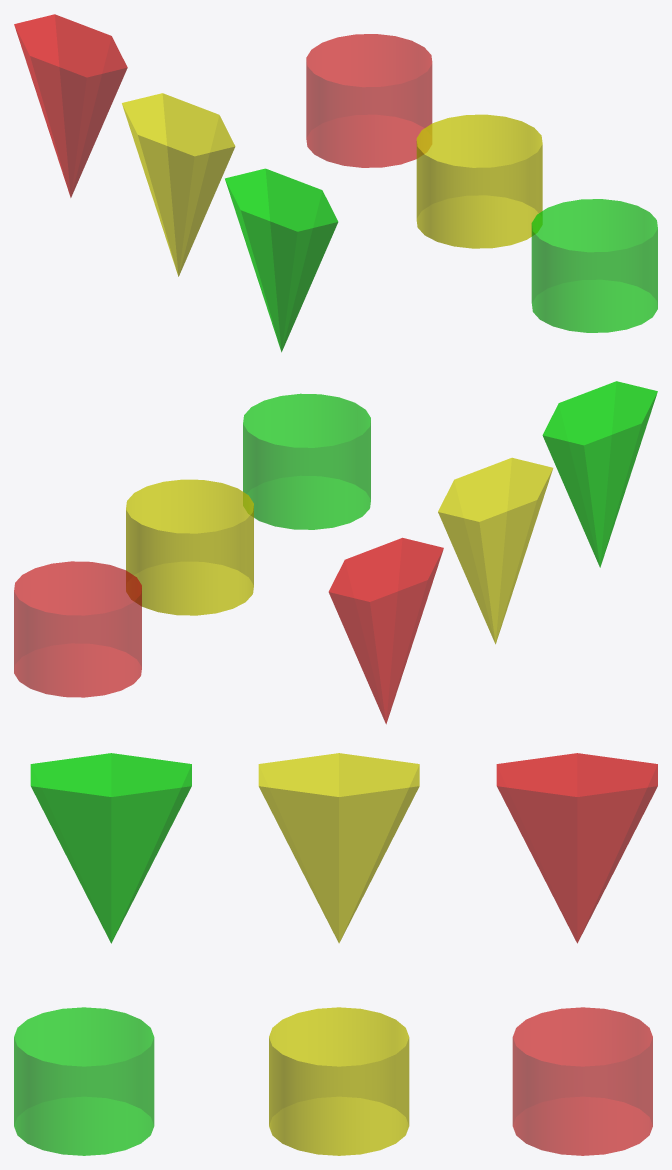
Rendered from IVANOH.fbx.
3 renders of one model, top to bottom at view 1: azimuth 30°, elevation 25°; view 2: azimuth 150°, elevation 25°; view 3: azimuth 270°, elevation 25°, orthographic. The views are drawn at different scales.
Parts seen in each view (by area): view 1: pCylinder2, pCylinder1, pCylinder3, pCone2, pCone1, pCone3; view 2: pCylinder1, pCylinder2, pCylinder3, pCone3, pCone1, pCone2; view 3: pCylinder1, pCylinder2, pCylinder3, pCone1, pCone3, pCone2.
Boxes of the visible parts, <box> form: pCylinder2: <box>531,199,657,332</box>; pCylinder1: <box>416,114,542,248</box>; pCylinder3: <box>306,34,432,167</box>; pCone2: <box>225,168,338,352</box>; pCone1: <box>122,93,235,276</box>; pCone3: <box>14,14,127,197</box>; pCylinder1: <box>126,479,253,615</box>; pCylinder2: <box>243,393,370,529</box>; pCylinder3: <box>14,561,141,697</box>; pCone3: <box>328,537,443,724</box>; pCone1: <box>438,457,553,644</box>; pCone2: <box>542,381,657,567</box>; pCylinder1: <box>269,1007,409,1155</box>; pCylinder2: <box>14,1007,154,1155</box>; pCylinder3: <box>512,1007,652,1155</box>; pCone1: <box>258,753,419,943</box>; pCone3: <box>496,753,657,943</box>; pCone2: <box>30,753,191,943</box>.
Bounding box in the file's own units: 5.44 × 2.24 × 6.92.
